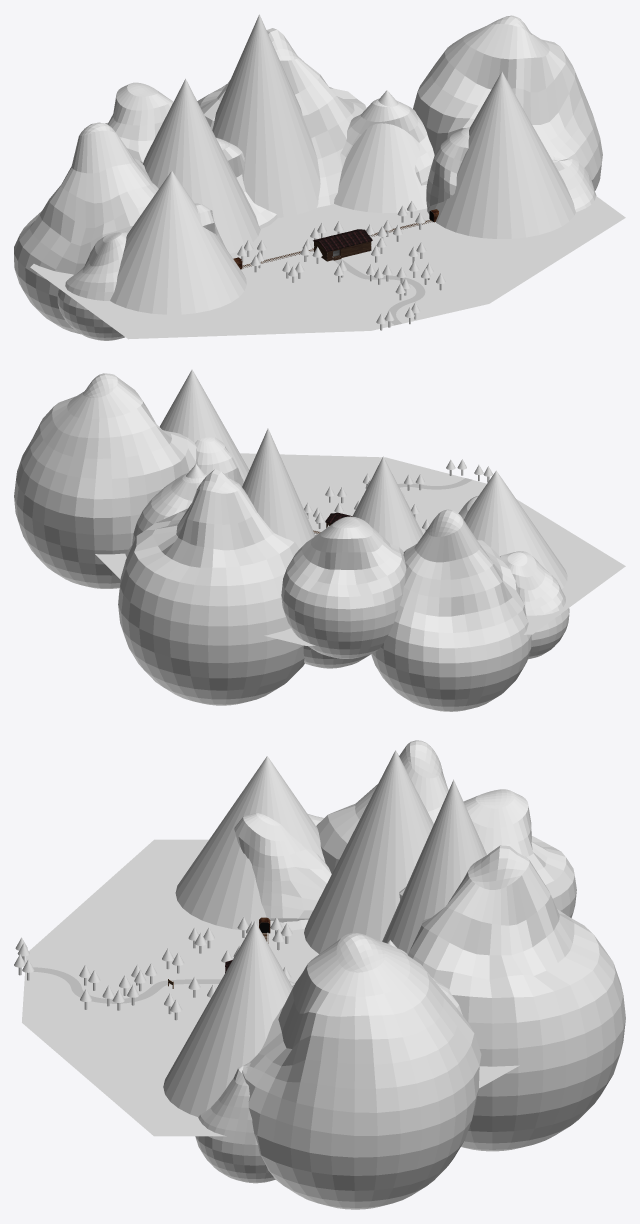
File: ModeloEstacionFinal.fbx
The picture shows the model from 3 angles, top to bottom: view 1: azimuth 30°, elevation 25°; view 2: azimuth 150°, elevation 25°; view 3: azimuth 270°, elevation 25°; orthographic projection. The views are drawn at different scales.
Parts seen in each view (by area): view 1: Montanyas, Montanyas.001, Suelo, Arboles, Edificio, CaminoTierra; view 2: Montanyas.001, Montanyas, Suelo, Arboles; view 3: Montanyas.001, Montanyas, Suelo, Arboles, CaminoTierra.
Boxes of the visible parts, <box> form: Montanyas: <box>110,14,575,314</box>; Montanyas.001: <box>14,15,602,340</box>; Suelo: <box>30,196,625,339</box>; Arboles: <box>237,201,445,330</box>; Edificio: <box>313,229,372,261</box>; CaminoTierra: <box>334,259,425,325</box>; Montanyas.001: <box>14,373,569,711</box>; Montanyas: <box>125,369,567,588</box>; Suelo: <box>95,453,625,645</box>; Arboles: <box>304,459,492,530</box>; Montanyas.001: <box>195,740,625,1209</box>; Montanyas: <box>163,750,486,1116</box>; Suelo: <box>22,839,519,1136</box>; Arboles: <box>14,917,292,1020</box>; CaminoTierra: <box>33,967,221,1003</box>.
Bounding box in the file's own units: 37626 × 18323 × 29883.
